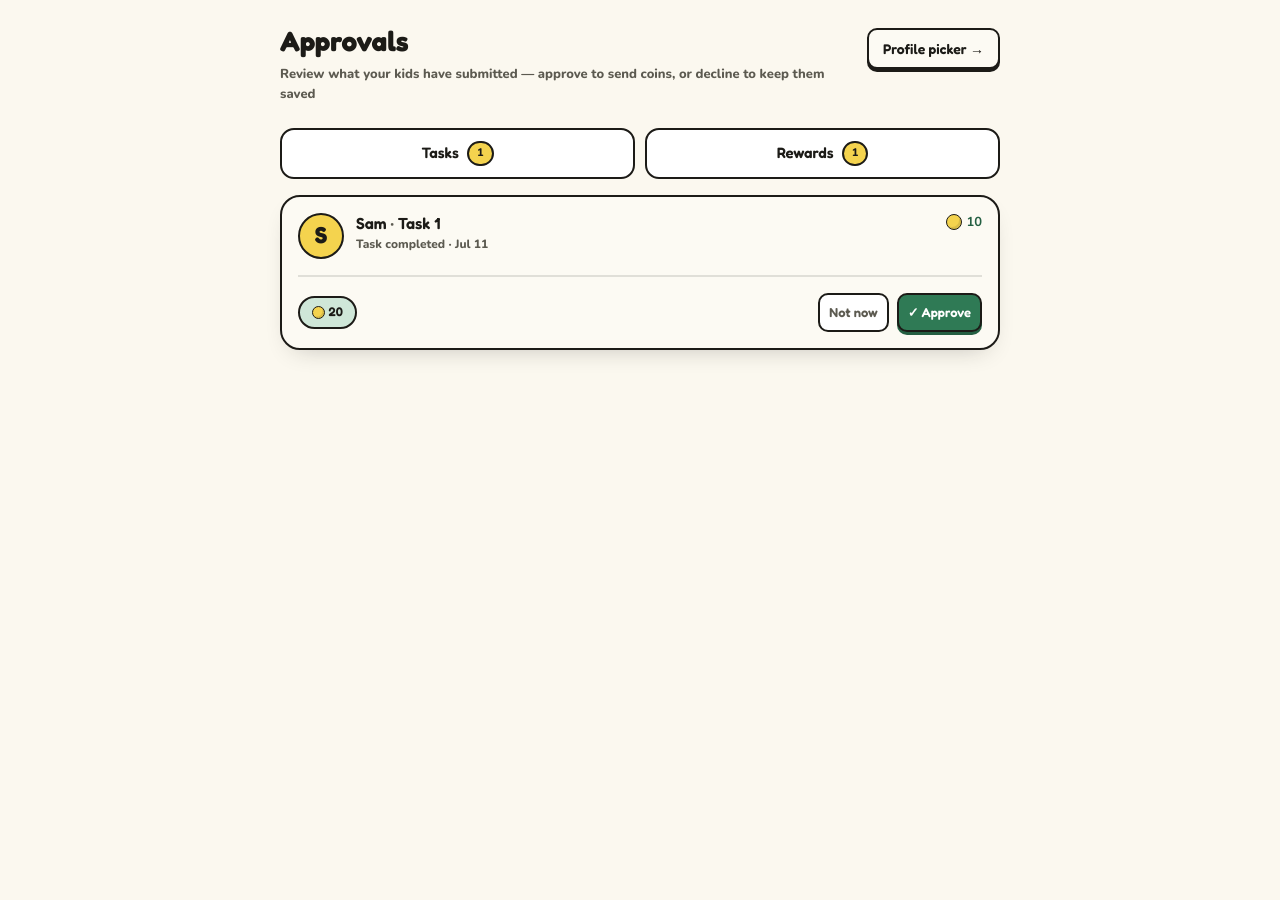
Scenario: ParentApprovalsPage › declines a task with an optional reason via the modal
Expected: the tab "Tasks 1" is shown, [280,128,635,178]
Click the button "Not now": [854, 312] box [818,292,889,332]
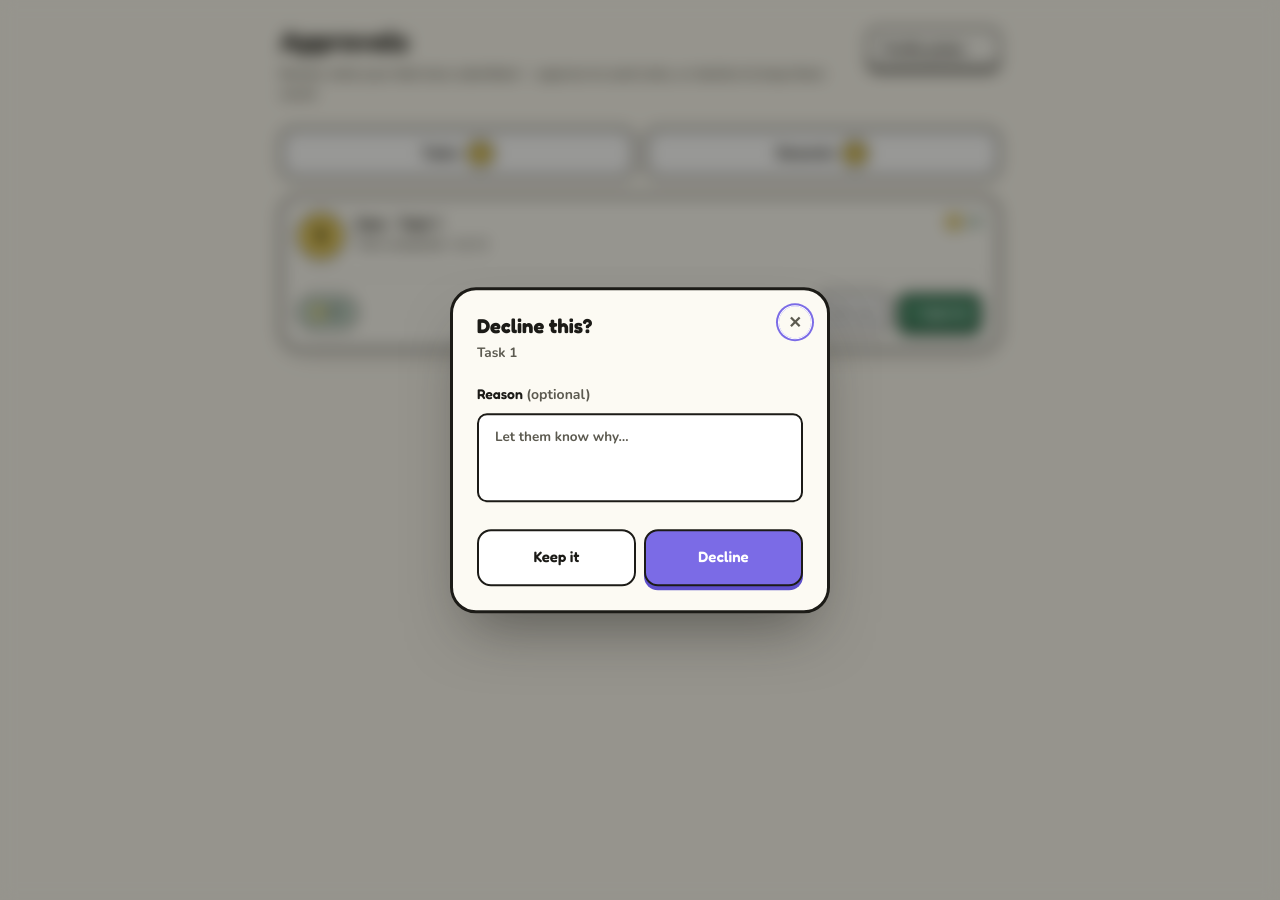
In the text box labelled "Reason (optional)": [640, 458] box [477,414,803,502], type "Bed wasn't made"
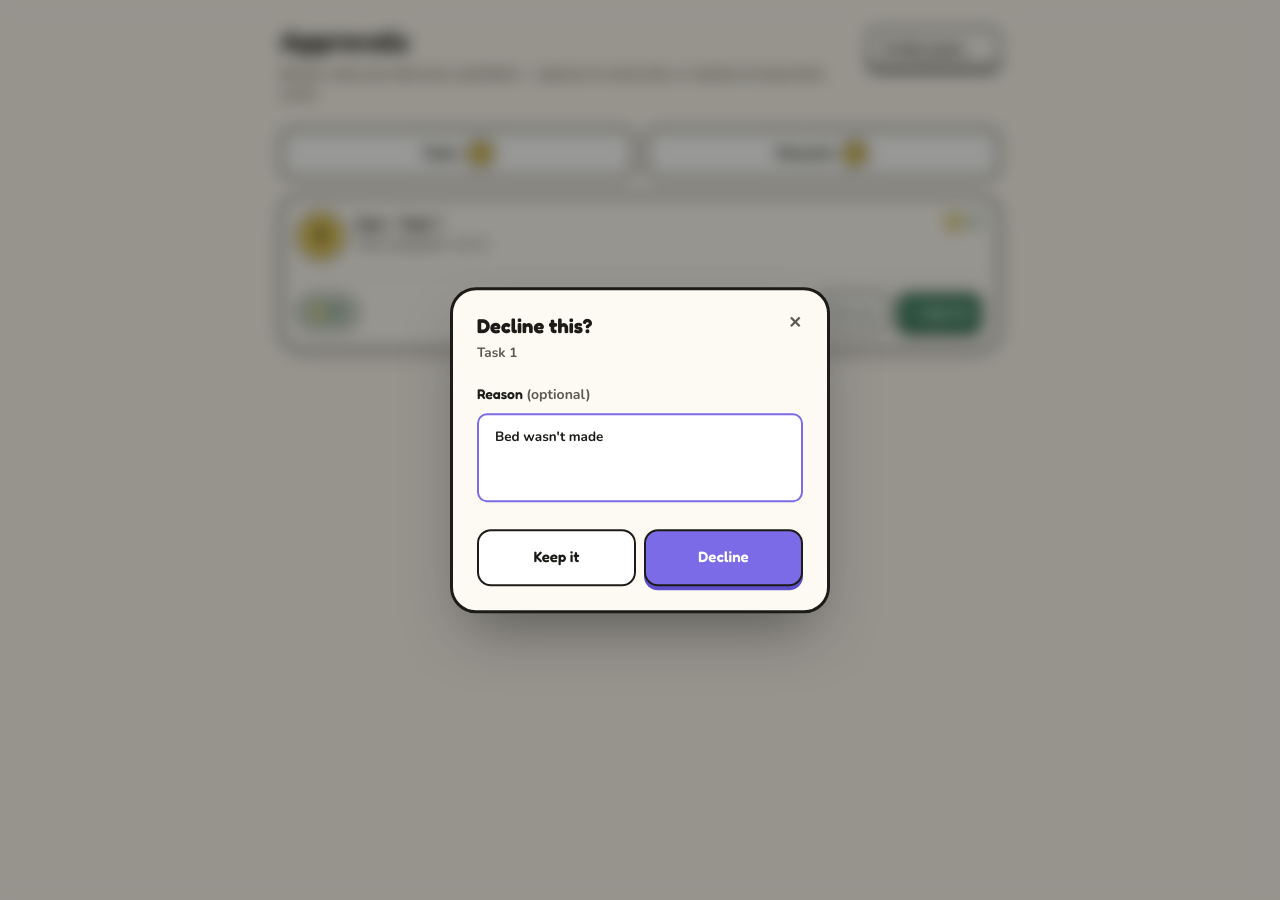
Click the button "Decline": [724, 558] box [644,529,803,586]
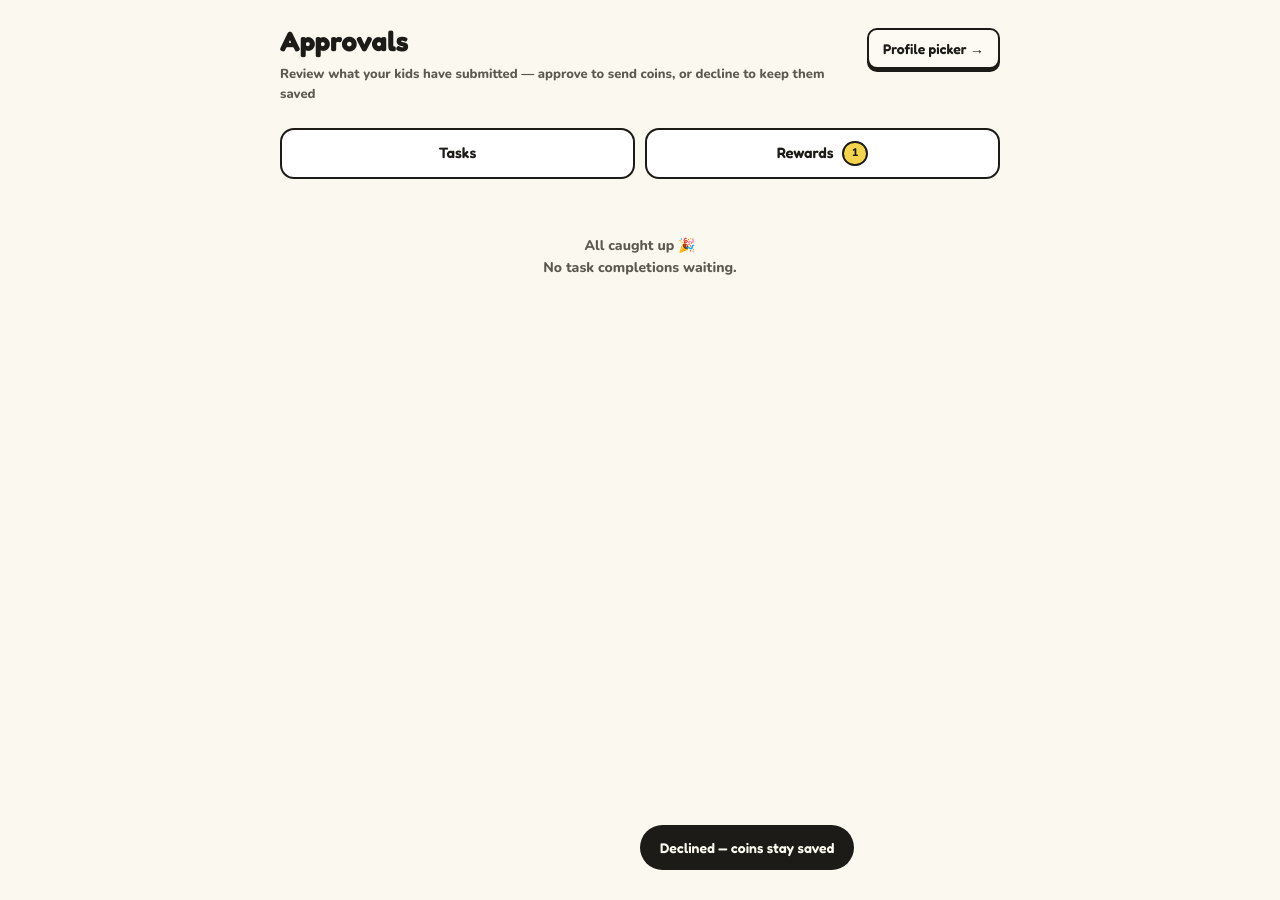
Now the text "Task 1" is gone
